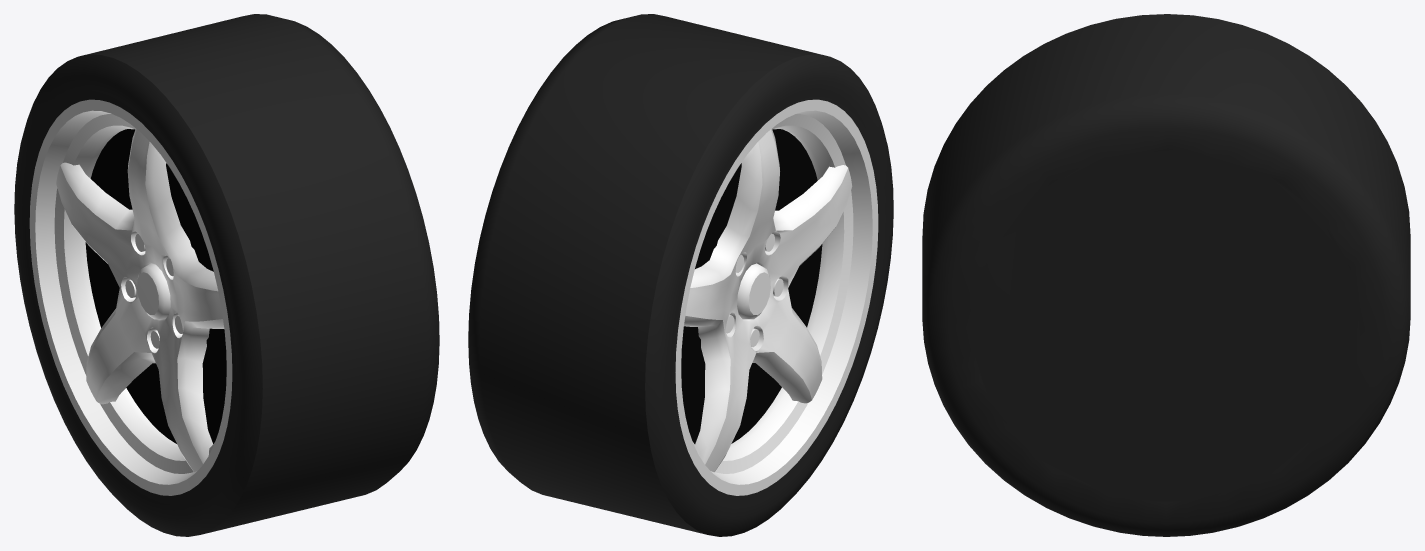
The model's file is mazda_rx7_fd_wheelhigh.obj.
3 views of the same model, side by side, from view 1: azimuth 30°, elevation 25°; view 2: azimuth 150°, elevation 25°; view 3: azimuth 270°, elevation 25° (orthographic).
Visible parts, largest first — view 1: mazda_rx7_fd_wheelhigh_Circle.002; view 2: mazda_rx7_fd_wheelhigh_Circle.002; view 3: mazda_rx7_fd_wheelhigh_Circle.002.
Boxes of the visible parts, x1,y1,x2,y2 form: mazda_rx7_fd_wheelhigh_Circle.002: [14, 14, 439, 536]; mazda_rx7_fd_wheelhigh_Circle.002: [468, 14, 893, 536]; mazda_rx7_fd_wheelhigh_Circle.002: [922, 14, 1410, 536].
Size of the model in its own units: 0.2914 by 0.6322 by 0.6322.
